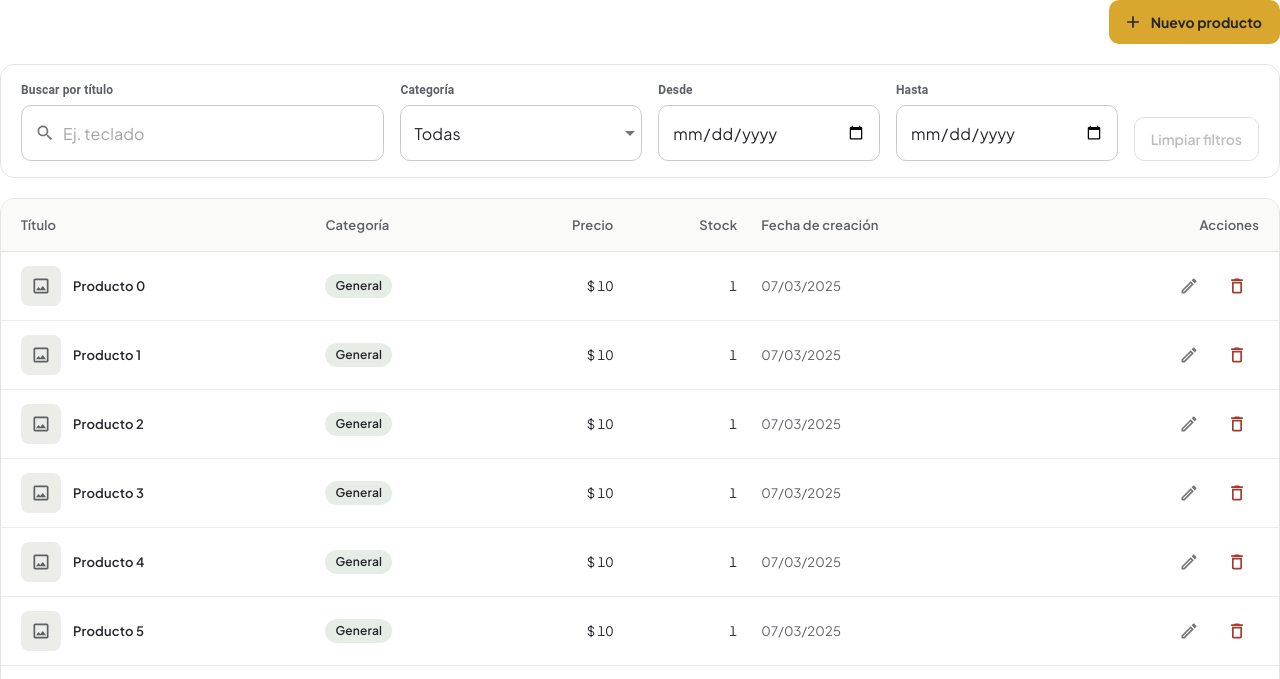
Test: InventoryPage › edit and delete › does nothing when the delete is canceled
Click the button named "Eliminar Producto 1" at (1237, 355), box [1215, 333, 1259, 377]
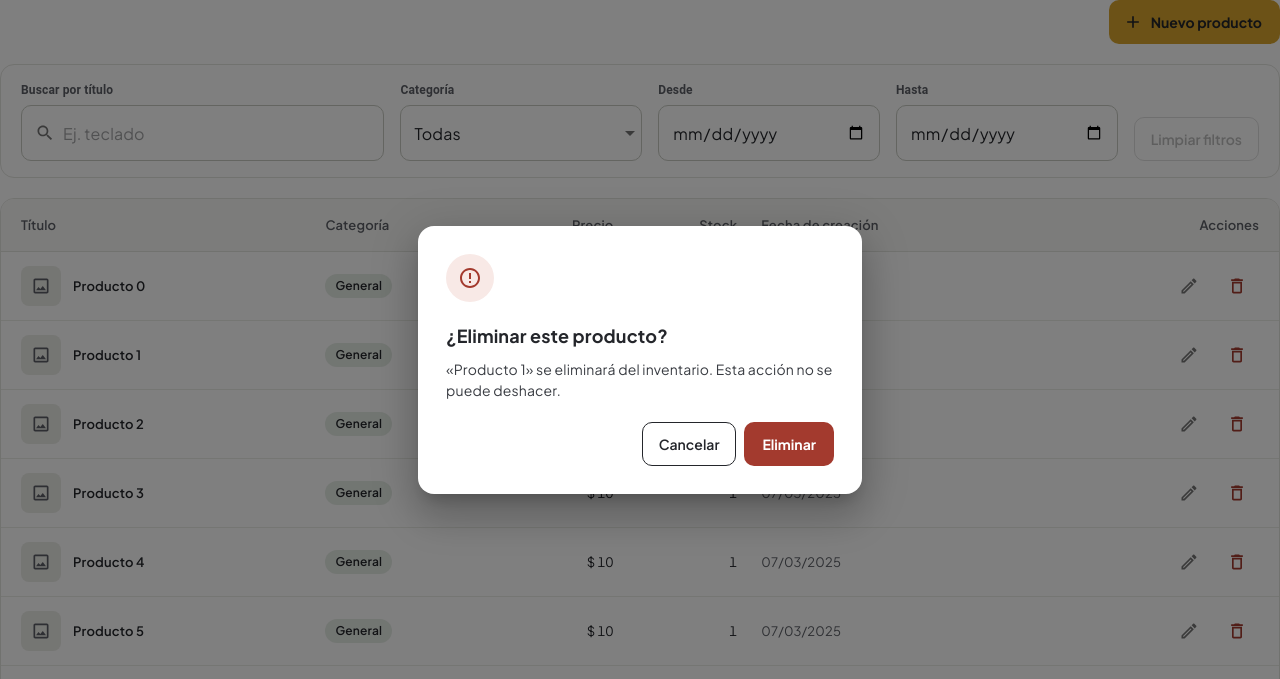
Click the button "Cancelar" at (689, 444), box [642, 422, 736, 466]
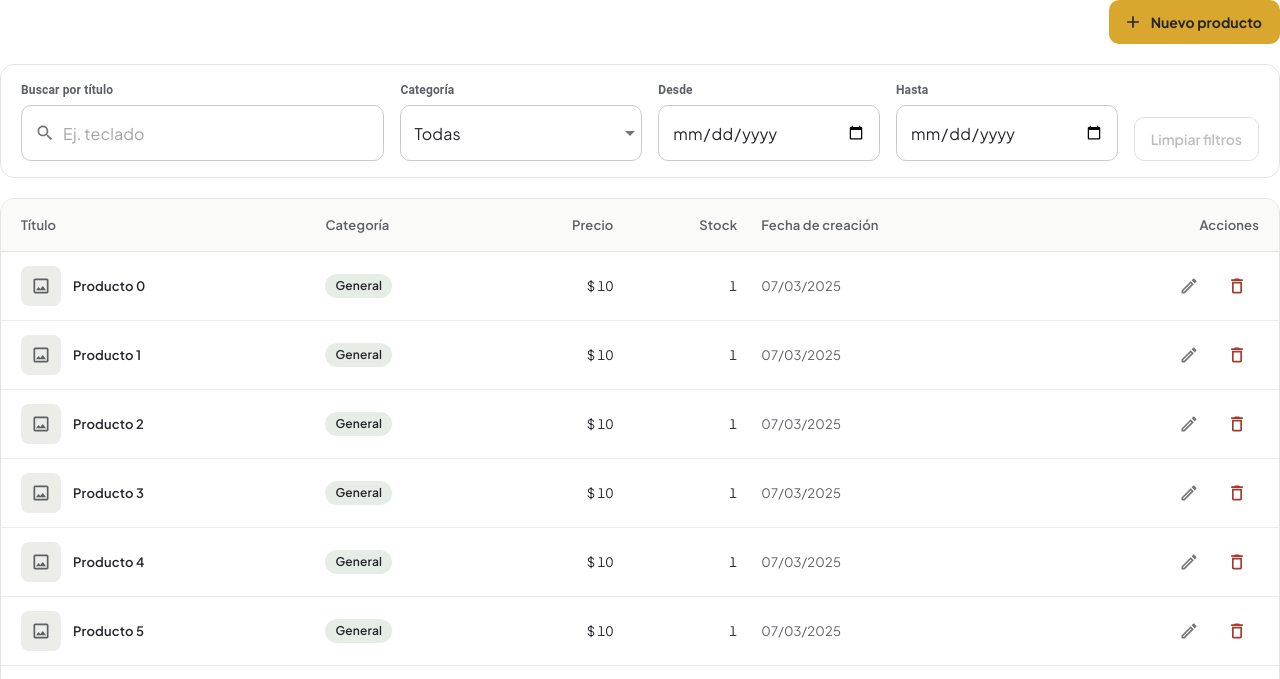
Expected: the text "Producto 1" is shown, [73, 346, 141, 364]
Now the dialog is gone
